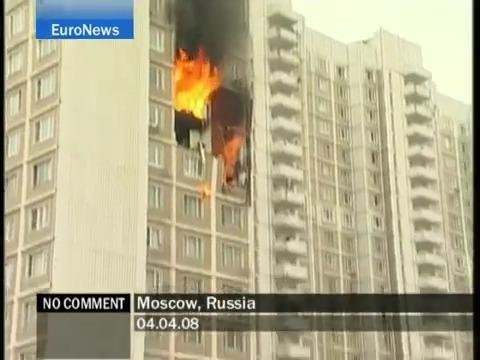fire: (171, 46, 222, 120), (221, 127, 250, 180)
